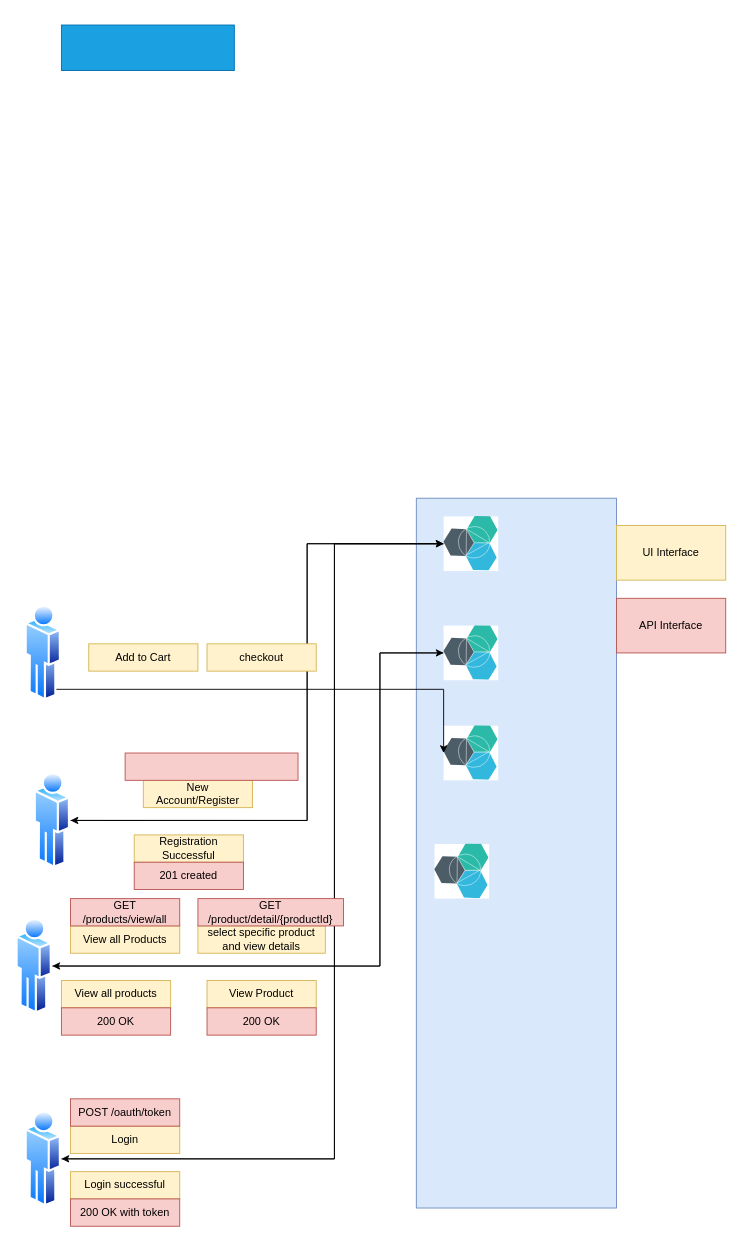
The diagram is 742 pixels wide and 1242 high, and some of its shapes have lost their labels. The shapes that lost their labels are listed below. From the top down, each one's centre as x and y in pixels, then its label:
pixel 147 47: Eshop Design
pixel 470 543: User
pixel 470 652: Products
pixel 211 766: POST /user/registration
pixel 470 752: Cart
pixel 461 871: BIlling
